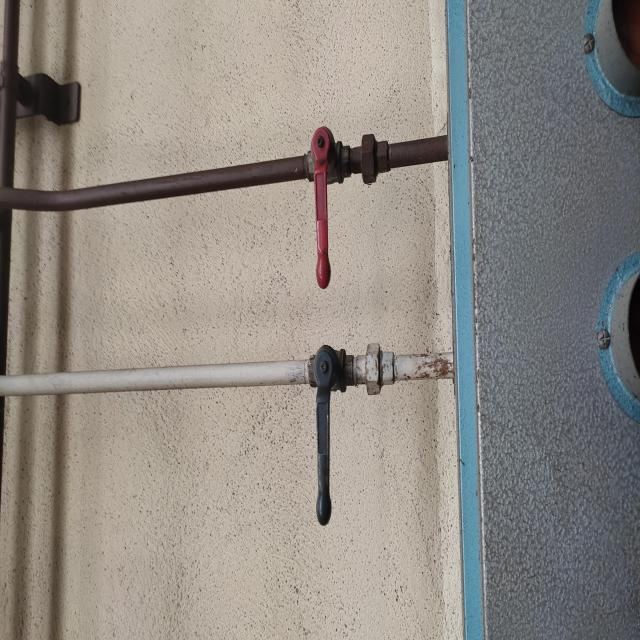closed_valve: (308, 344, 356, 526), (306, 122, 352, 290)
